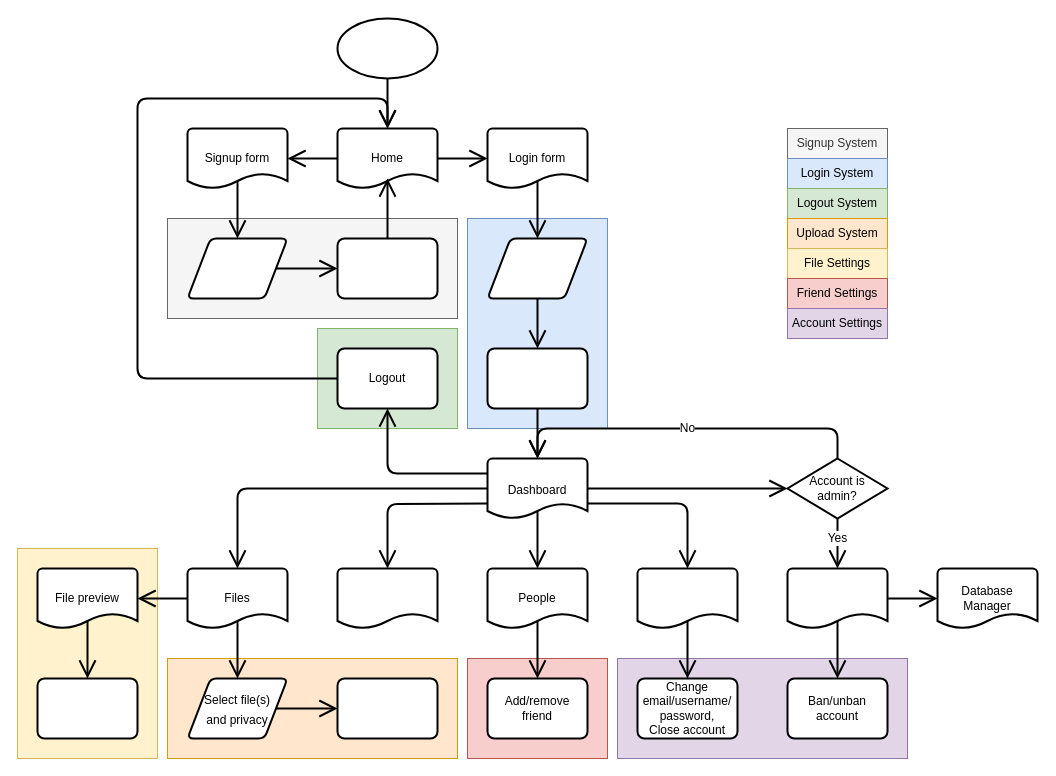
The diagram is 1056 pixels wide and 776 high, and some of its shapes have lost their labels. The shapes that lost their labels are listed below. From the top down, each one's box as (x1, y1, x2, y2) in pixels, then its label:
(336, 17, 438, 79): Open NShare
(186, 237, 288, 299): Enter email, username, password
(336, 237, 438, 299): Create account
(486, 237, 588, 299): Enter username, password
(486, 347, 588, 409): Login
(336, 567, 438, 629): Profile
(636, 567, 738, 629): Settings
(786, 567, 888, 629): Administration
(36, 677, 138, 739): Download file, Delete file, Toggle privacy
(336, 677, 438, 739): Upload file(s)
